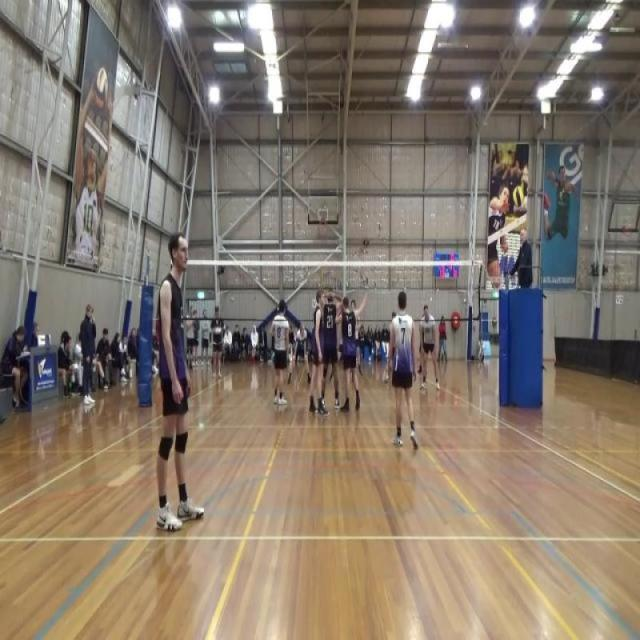volleyball: (94, 66, 109, 110), (512, 184, 526, 209)
